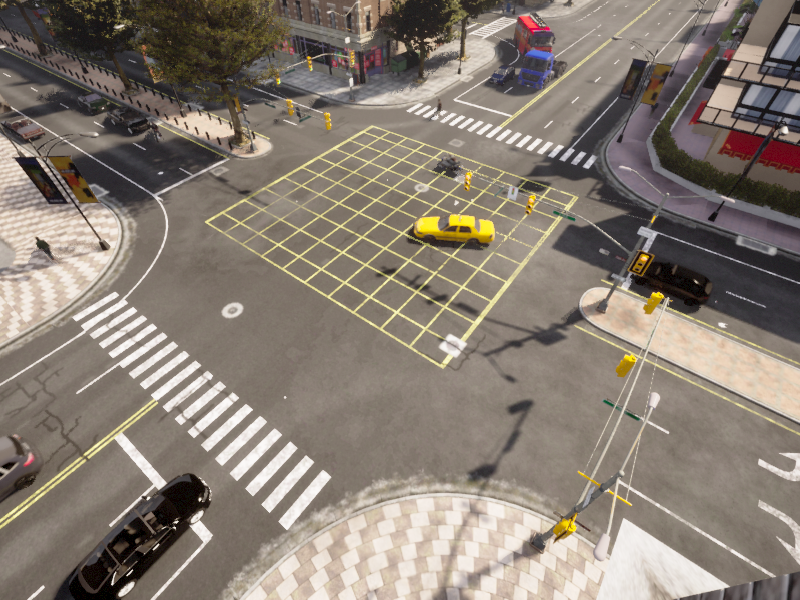vehicle: (622, 245, 717, 310), (409, 206, 492, 246), (100, 99, 157, 138), (433, 147, 463, 176), (144, 118, 171, 145)
